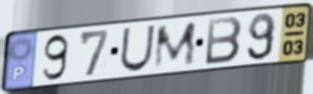7: (78, 28, 112, 79)
9: (245, 11, 278, 63), (41, 33, 71, 82)
B: (203, 15, 244, 67)
M: (152, 19, 199, 71)
U: (118, 23, 158, 74)
